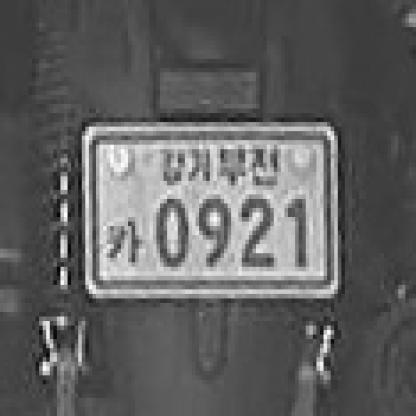bnum: (80, 113, 348, 310)
